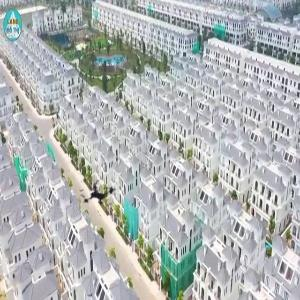drone: (67, 164, 131, 228)
